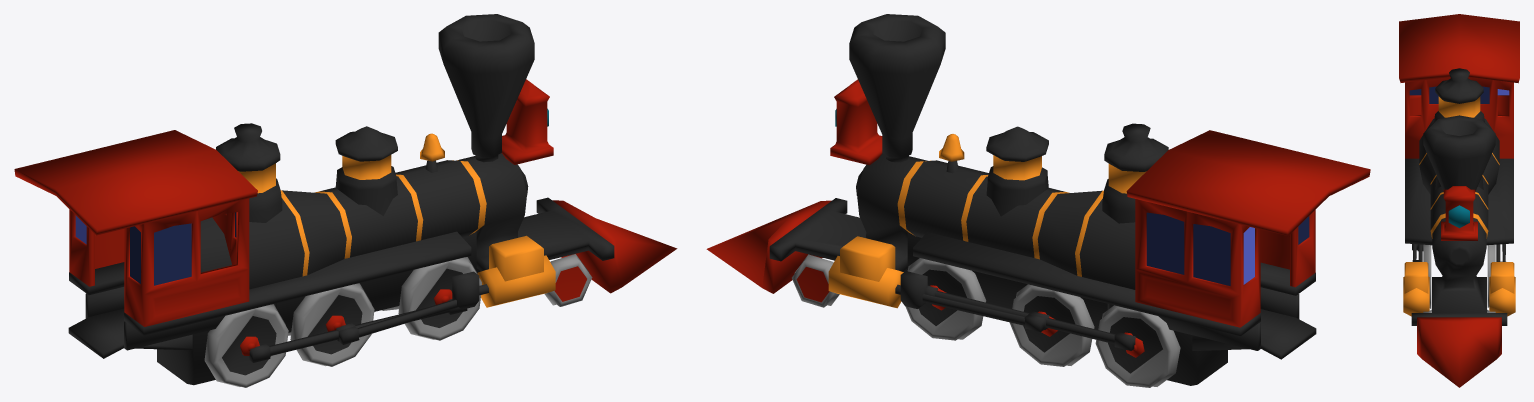
File: Western_Locomotive_Parts.fbx
The picture shows the model from 3 angles, left to right: view 1: azimuth 30°, elevation 25°; view 2: azimuth 150°, elevation 25°; view 3: azimuth 270°, elevation 25°; orthographic projection. The views are drawn at different scales.
Parts seen in each view (by area): view 1: locomotive-western-base.001, locomotive-western-base.025, locomotive-western-base.008, locomotive-western-base.002, locomotive-western-base.006, locomotive-western-base.009, locomotive-western-base.003, locomotive-western-base.010, locomotive-western-base.005, locomotive-western-base.011, locomotive-western-base.004, locomotive-western-base.024 (+3 smaller); view 2: locomotive-western-base.001, locomotive-western-base.008, locomotive-western-base.025, locomotive-western-base.002, locomotive-western-base.006, locomotive-western-base.014, locomotive-western-base.013, locomotive-western-base.003, locomotive-western-base.005, locomotive-western-base.012, locomotive-western-base.004, locomotive-western-base.024 (+2 smaller); view 3: locomotive-western-base.025, locomotive-western-base.001, locomotive-western-base.005, locomotive-western-base.002, locomotive-western-base.008, locomotive-western-base.006, locomotive-western-base.004, locomotive-western-base.024, locomotive-western-base.016, locomotive-western-base.023, locomotive-western-base.015, locomotive-western-base.022 (+2 smaller).
Part boxes in pixels (x1,y1,x2,y2): locomotive-western-base.001: (68,133,614,385); locomotive-western-base.025: (14,130,257,235); locomotive-western-base.008: (69,198,249,326); locomotive-western-base.002: (438,14,534,162); locomotive-western-base.006: (69,231,471,335); locomotive-western-base.009: (204,304,288,387); locomotive-western-base.003: (335,126,397,215); locomotive-western-base.010: (290,283,374,366); locomotive-western-base.005: (552,200,677,293); locomotive-western-base.011: (398,257,481,340); locomotive-western-base.004: (216,123,282,222); locomotive-western-base.024: (501,79,553,164); locomotive-western-base.001: (769,134,1316,385); locomotive-western-base.008: (1135,199,1315,327); locomotive-western-base.025: (1126,130,1370,235); locomotive-western-base.002: (849,14,945,162); locomotive-western-base.006: (913,232,1315,335); locomotive-western-base.014: (1095,305,1180,387); locomotive-western-base.013: (1009,284,1094,366); locomotive-western-base.003: (986,126,1048,216); locomotive-western-base.005: (706,200,831,293); locomotive-western-base.012: (905,258,986,340); locomotive-western-base.004: (1102,123,1168,223); locomotive-western-base.024: (830,79,882,165); locomotive-western-base.025: (1399,14,1519,83); locomotive-western-base.001: (1411,89,1509,325); locomotive-western-base.005: (1417,317,1501,387); locomotive-western-base.002: (1423,115,1495,191); locomotive-western-base.008: (1405,77,1513,158); locomotive-western-base.006: (1405,158,1513,245); locomotive-western-base.004: (1434,68,1484,121); locomotive-western-base.024: (1441,186,1477,240); locomotive-western-base.016: (1404,262,1428,293); locomotive-western-base.023: (1490,262,1514,293); locomotive-western-base.015: (1489,276,1515,316); locomotive-western-base.022: (1403,276,1429,316).
Size of the model in its own units: 1174 by 501 by 272.
1 material, 1 textured.
